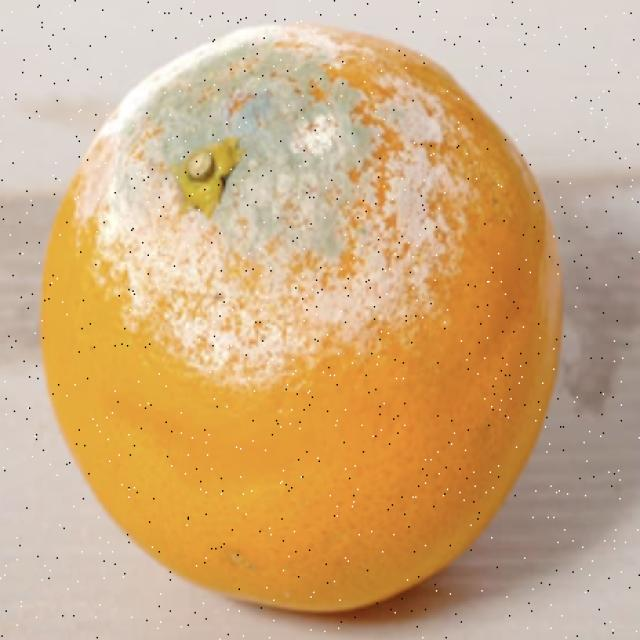sedikit_busuk: (34, 17, 561, 612)
